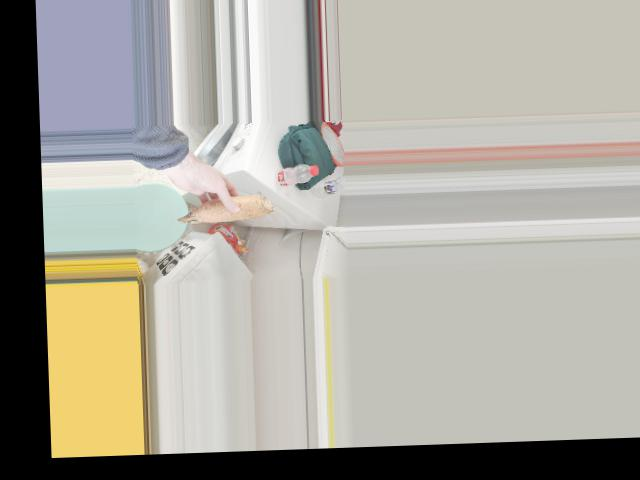sweet_potato: (178, 190, 276, 224)
